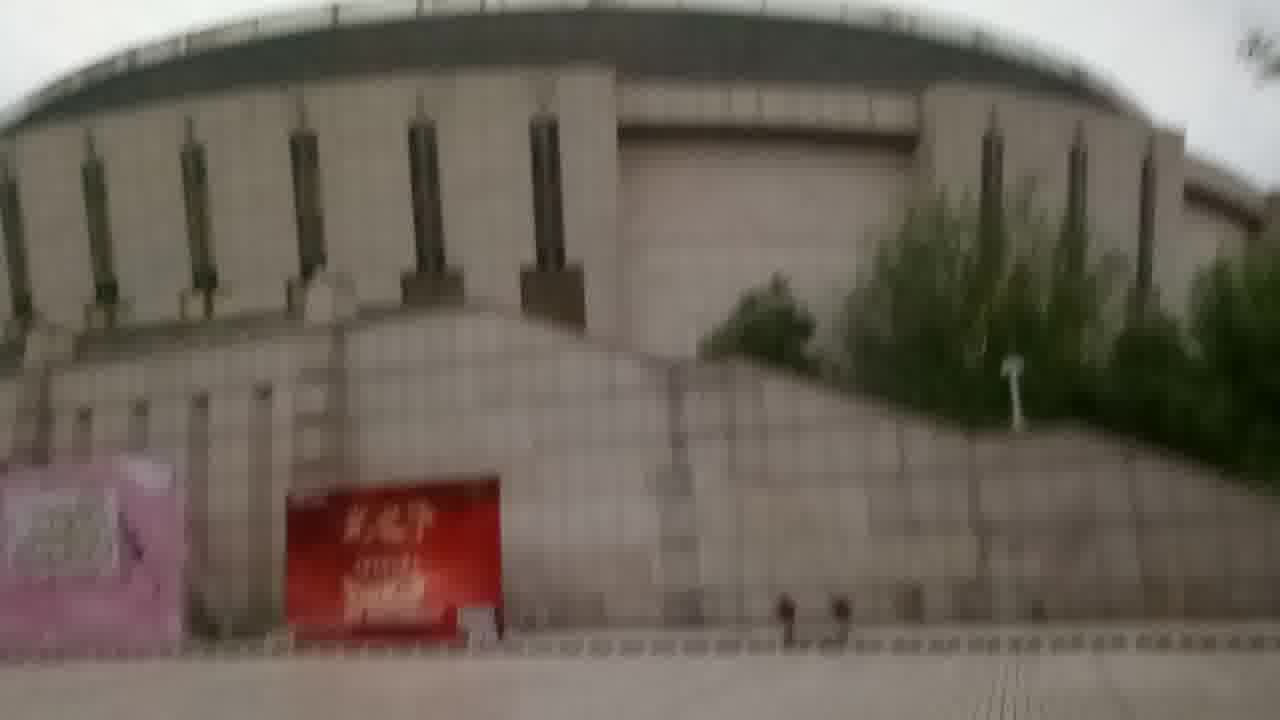zhongtiww: (5, 1, 1280, 687)
